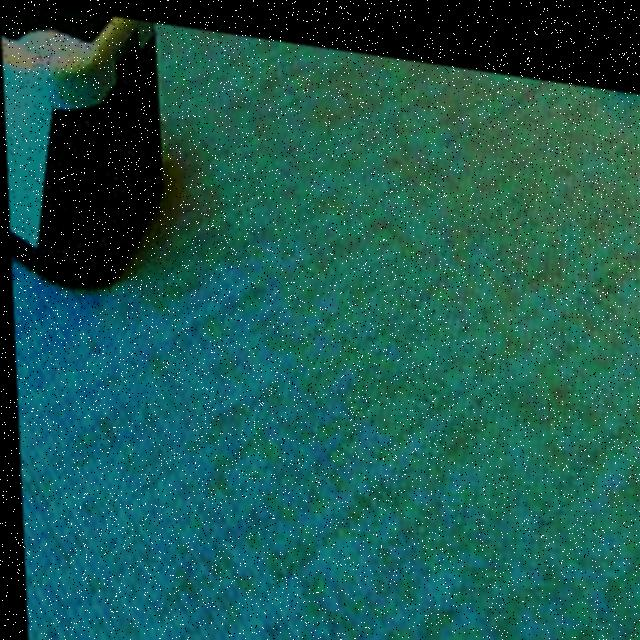adapter: (0, 0, 168, 297)
